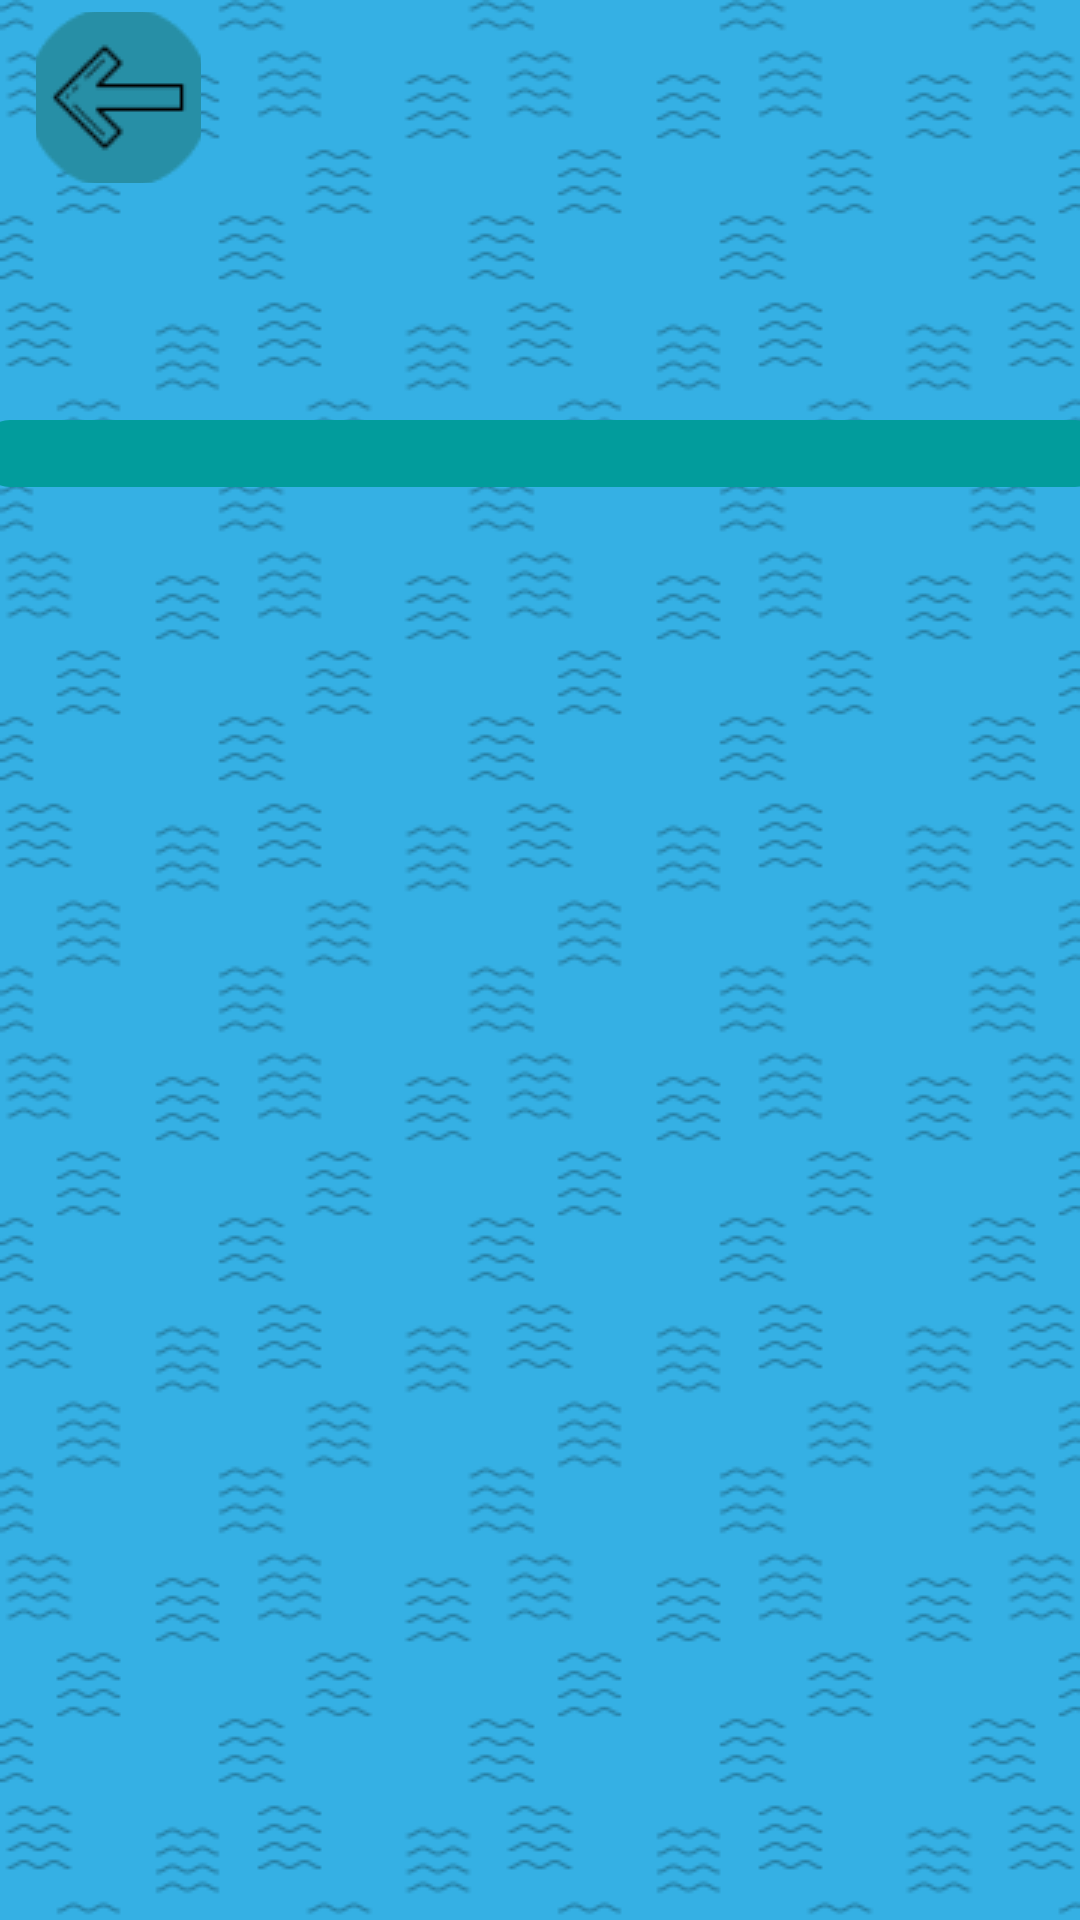

Icon click points for this 1080 × 1920 phone screenshot, format (x,y):
strelka: (118,97)
